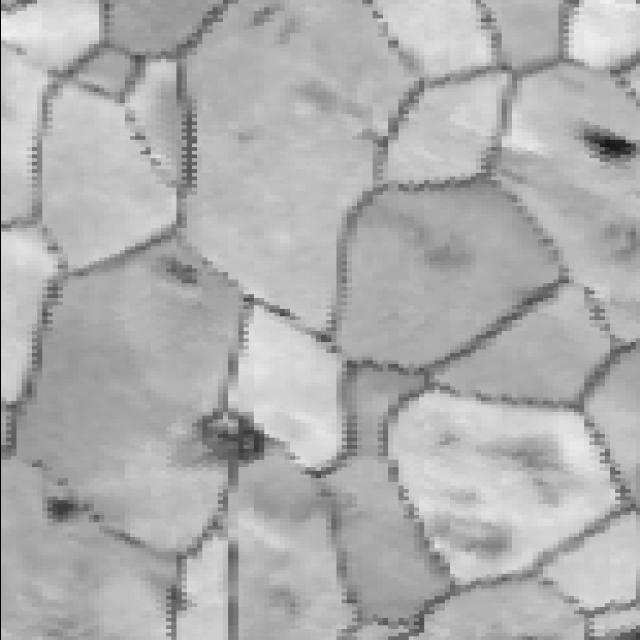good_void: (469, 430, 572, 506), (431, 509, 516, 563), (192, 407, 266, 464), (249, 4, 307, 60), (584, 131, 639, 165), (157, 251, 200, 288), (49, 496, 82, 523), (168, 586, 182, 606)
